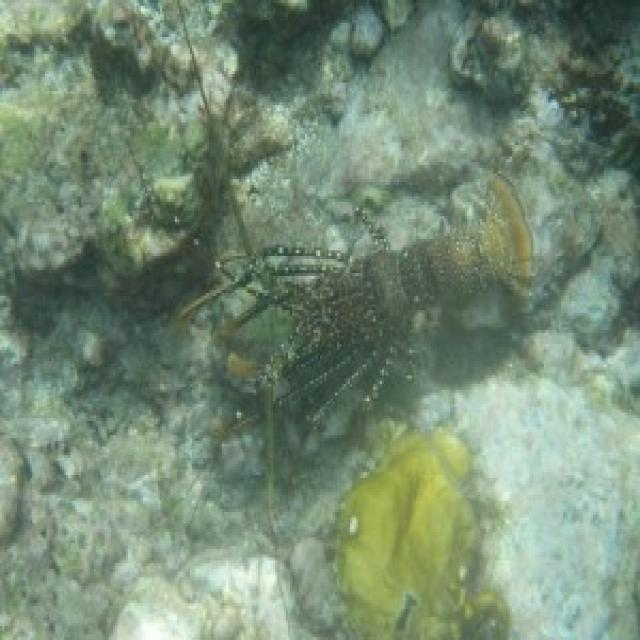lobsters: (145, 129, 581, 465)
